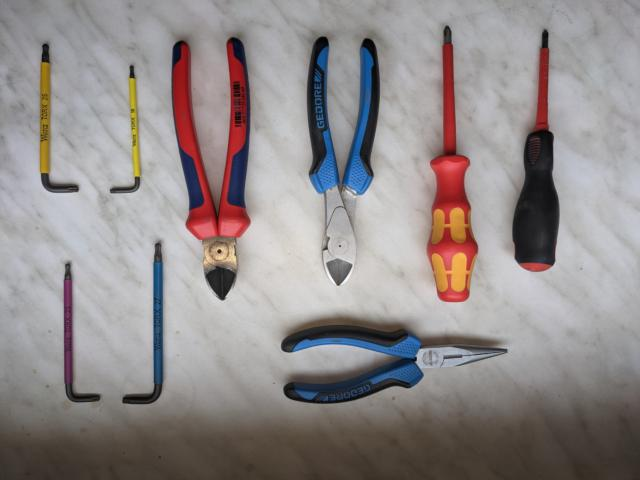Inbusschlüssel: (118, 239, 168, 410), (36, 39, 84, 195), (61, 259, 105, 406), (108, 63, 145, 196)
Schraubendreher: (423, 22, 483, 305), (509, 26, 564, 275)
Seitenschneider: (167, 34, 257, 303), (302, 34, 384, 289)
Zange: (278, 319, 511, 407)
